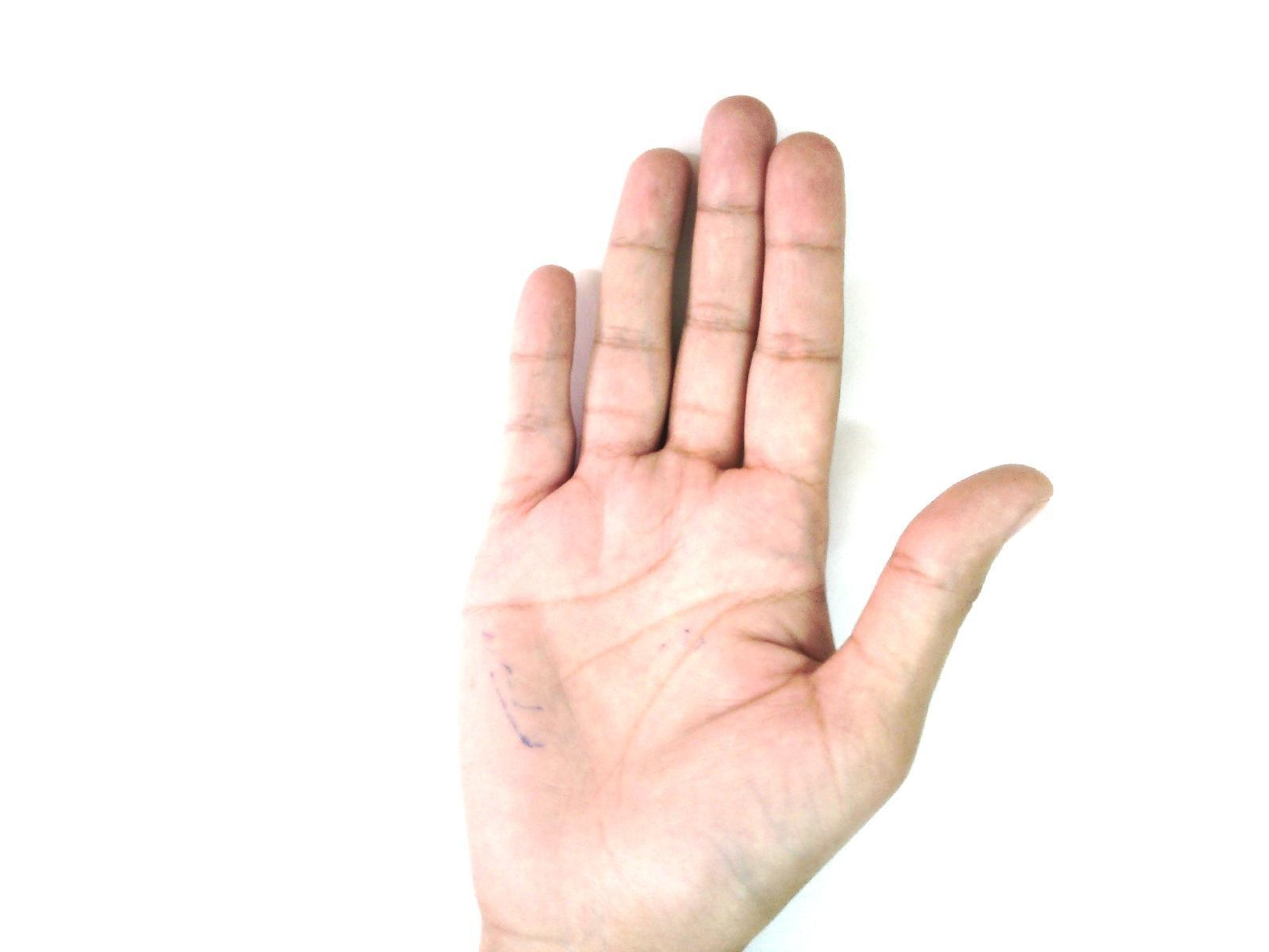open_palm: (454, 94, 1056, 951)
